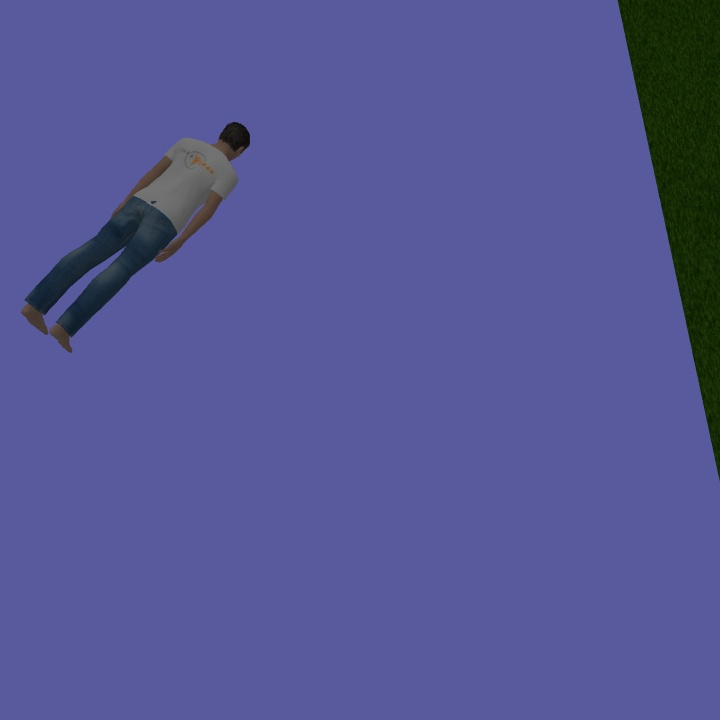victim: (21, 117, 252, 356)
